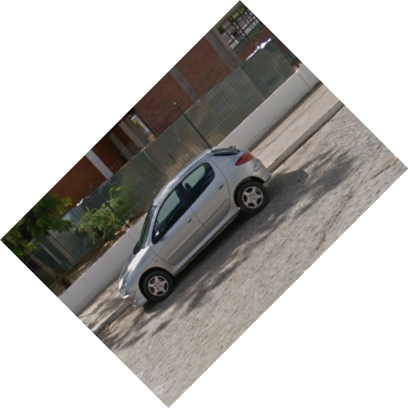car: (115, 143, 274, 309)
